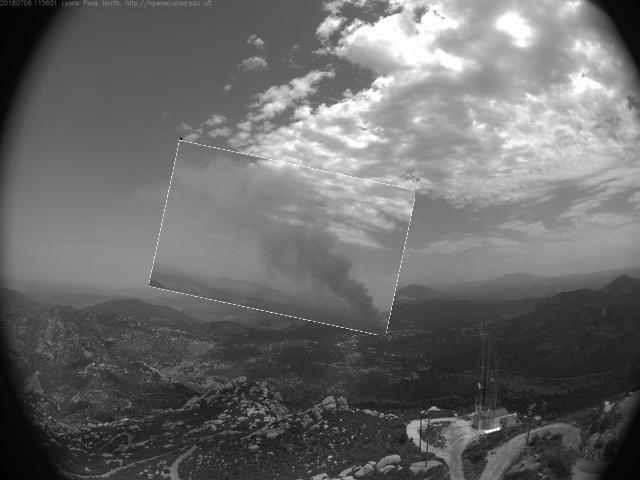smoke: (157, 153, 411, 326)
